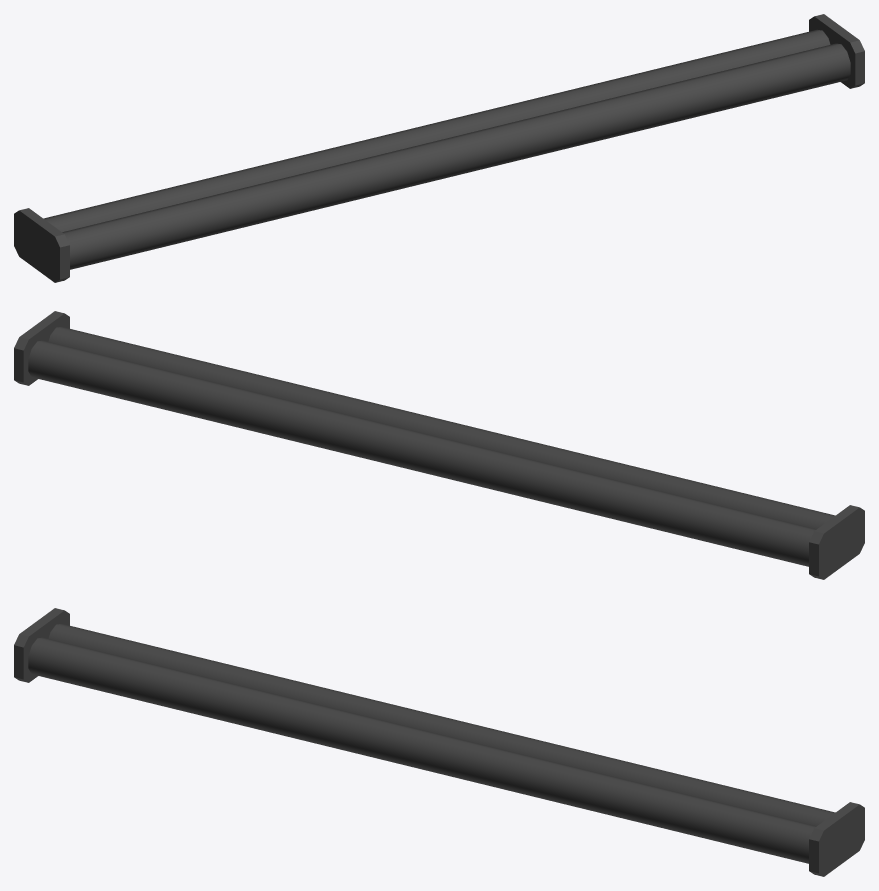
Rendered from Pfb_Soda_Pipe__2.fbx.
3 renders of one model, top to bottom at view 1: azimuth 30°, elevation 25°; view 2: azimuth 150°, elevation 25°; view 3: azimuth 330°, elevation 25°, orthographic.
Visible parts, largest first — view 1: MAT_Soda_Pipe 1; view 2: MAT_Soda_Pipe 1; view 3: MAT_Soda_Pipe 1.
Part boxes in pixels (bbox=[...]): MAT_Soda_Pipe 1: bbox=[14, 14, 864, 282]; MAT_Soda_Pipe 1: bbox=[14, 311, 864, 579]; MAT_Soda_Pipe 1: bbox=[14, 608, 864, 876].
Size of the model in its own units: 7.2 by 0.3963 by 0.7141.
1 material, 1 textured.
